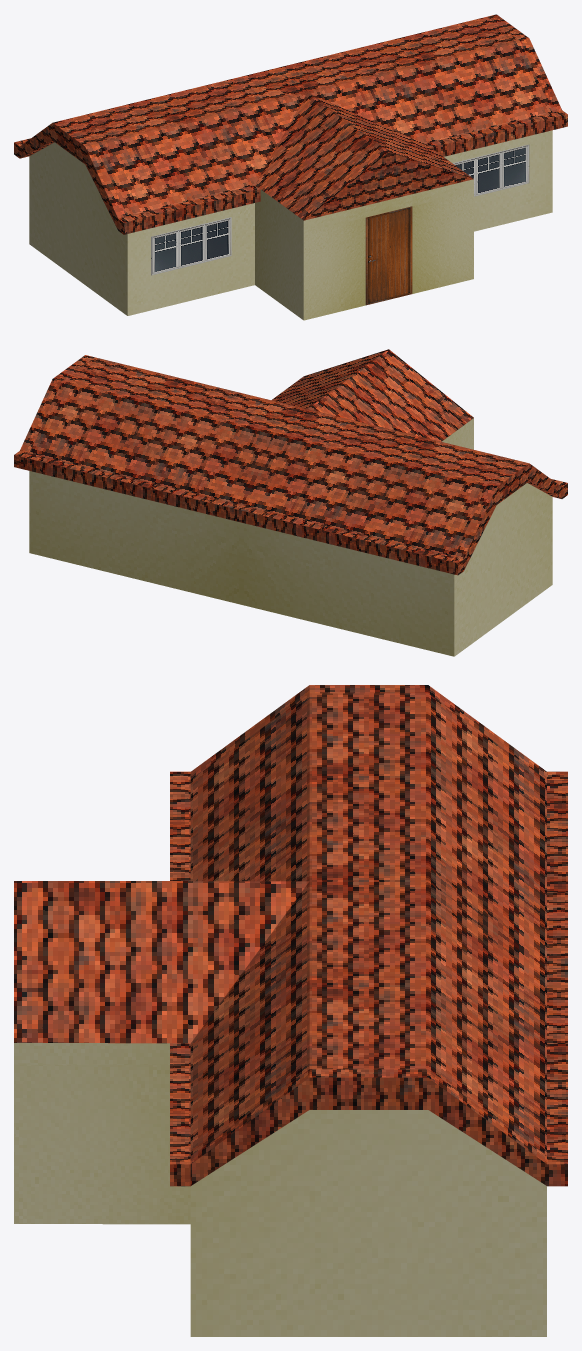
File: house2.glb
3 renders of one model, top to bottom at view 1: azimuth 30°, elevation 25°; view 2: azimuth 150°, elevation 25°; view 3: azimuth 270°, elevation 25°, orthographic. The views are drawn at different scales.
Parts seen in each view (by area): view 1: Cube; view 2: Cube; view 3: Cube.
Boxes of the visible parts, x1,y1,x2,y2 form: Cube: [14, 14, 567, 320]; Cube: [14, 349, 567, 656]; Cube: [14, 685, 567, 1336].
Bounding box in the file's own units: 5.21 × 1.66 × 3.11.
1 material, 1 textured.
